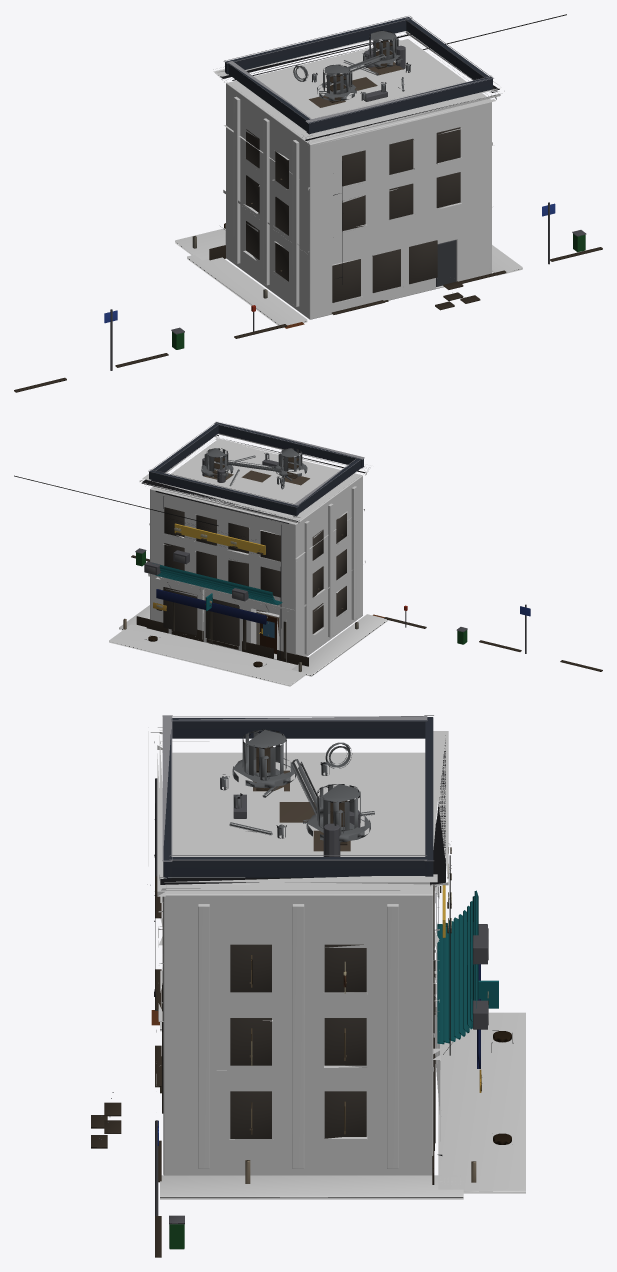
The model's file is hm_storefront_v10_soft.obj.
The picture shows the model from 3 angles, top to bottom: view 1: azimuth 30°, elevation 25°; view 2: azimuth 150°, elevation 25°; view 3: azimuth 270°, elevation 25°; orthographic projection. The views are drawn at different scales.
Parts seen in each view (by area): view 1: SoftLOD; view 2: SoftLOD; view 3: SoftLOD.
Boxes of the visible parts, <box> form: SoftLOD: <box>14,14,602,392</box>; SoftLOD: <box>14,421,602,686</box>; SoftLOD: <box>91,715,525,1257</box>.
Bounding box in the file's own units: 35.26 × 11.27 × 12.9.
